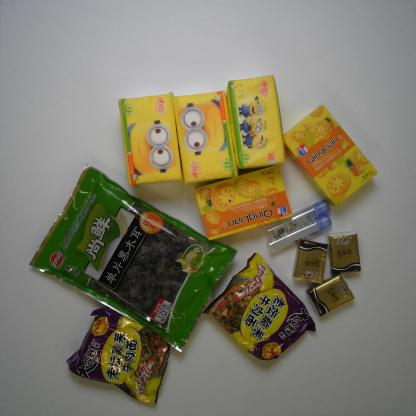Dessert: (280, 103, 380, 207), (193, 164, 295, 243)
Dried Food: (29, 163, 237, 353)
Instant Noodles: (202, 252, 318, 362), (65, 305, 172, 405)
Stationery: (266, 214, 333, 252), (266, 200, 330, 238)
Tissue: (116, 92, 184, 186), (172, 91, 238, 186), (226, 76, 285, 170), (308, 272, 357, 317), (294, 237, 328, 284), (326, 230, 361, 274)
